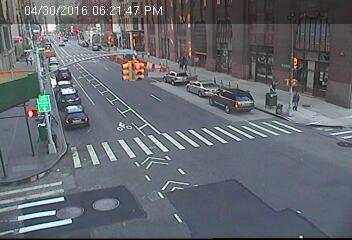neg: (45, 41, 79, 86), (291, 150, 319, 187), (82, 181, 108, 216), (99, 94, 125, 129), (305, 91, 331, 126), (183, 108, 208, 142), (30, 105, 55, 139), (129, 159, 154, 192), (186, 176, 211, 209), (219, 146, 244, 179), (230, 80, 254, 112), (57, 149, 80, 180), (114, 47, 136, 76), (265, 88, 286, 115), (190, 40, 209, 66), (261, 35, 278, 58), (159, 78, 176, 100), (294, 73, 304, 87)
